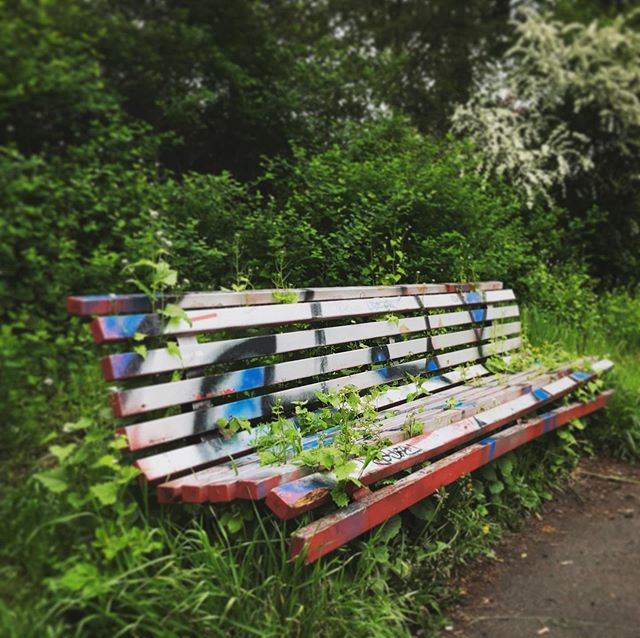bench: (83, 252, 603, 554)
graffiti: (110, 278, 592, 547)
vegetation: (1, 1, 628, 263), (31, 305, 356, 638)
